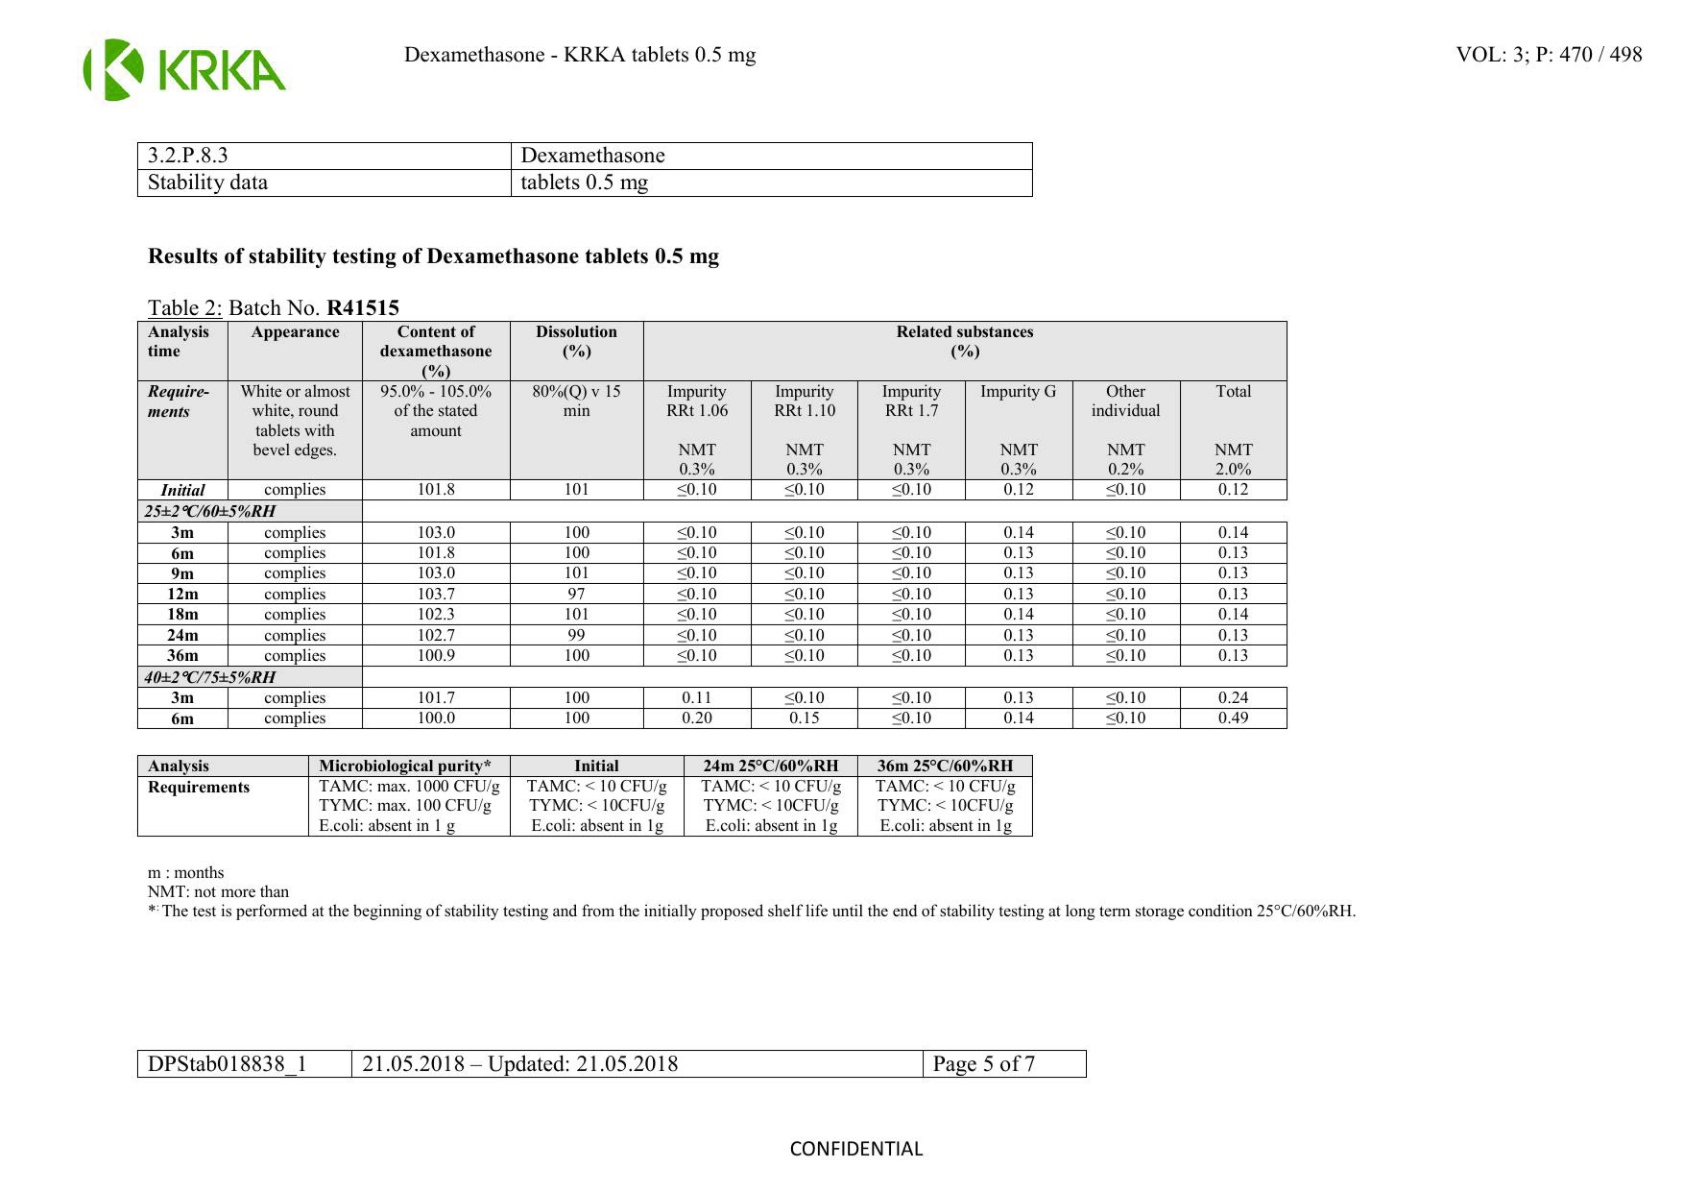full_lined: (135, 753, 1034, 839), (135, 141, 1034, 197), (135, 1049, 1088, 1078)
merged_cells: (135, 320, 1288, 730)
